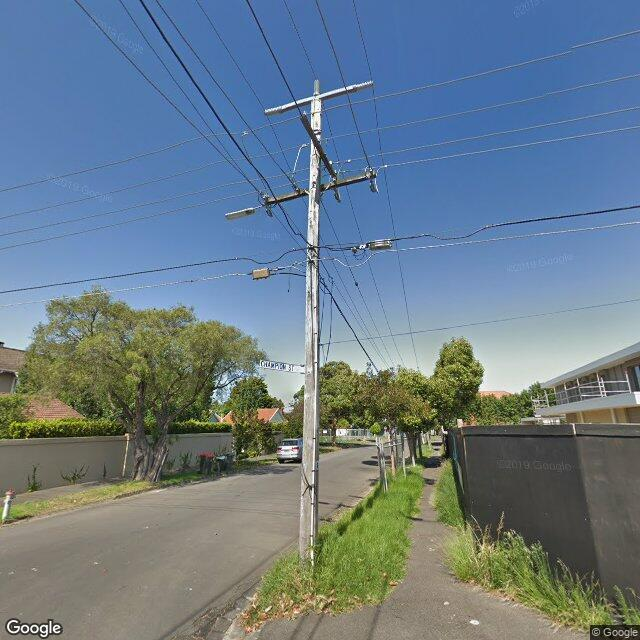HV-transmission: (264, 78, 375, 117)
crossarm: (262, 160, 387, 217), (300, 114, 351, 178), (282, 85, 356, 113)
streetlight: (225, 203, 264, 220)
timber-pole: (298, 98, 322, 565)
